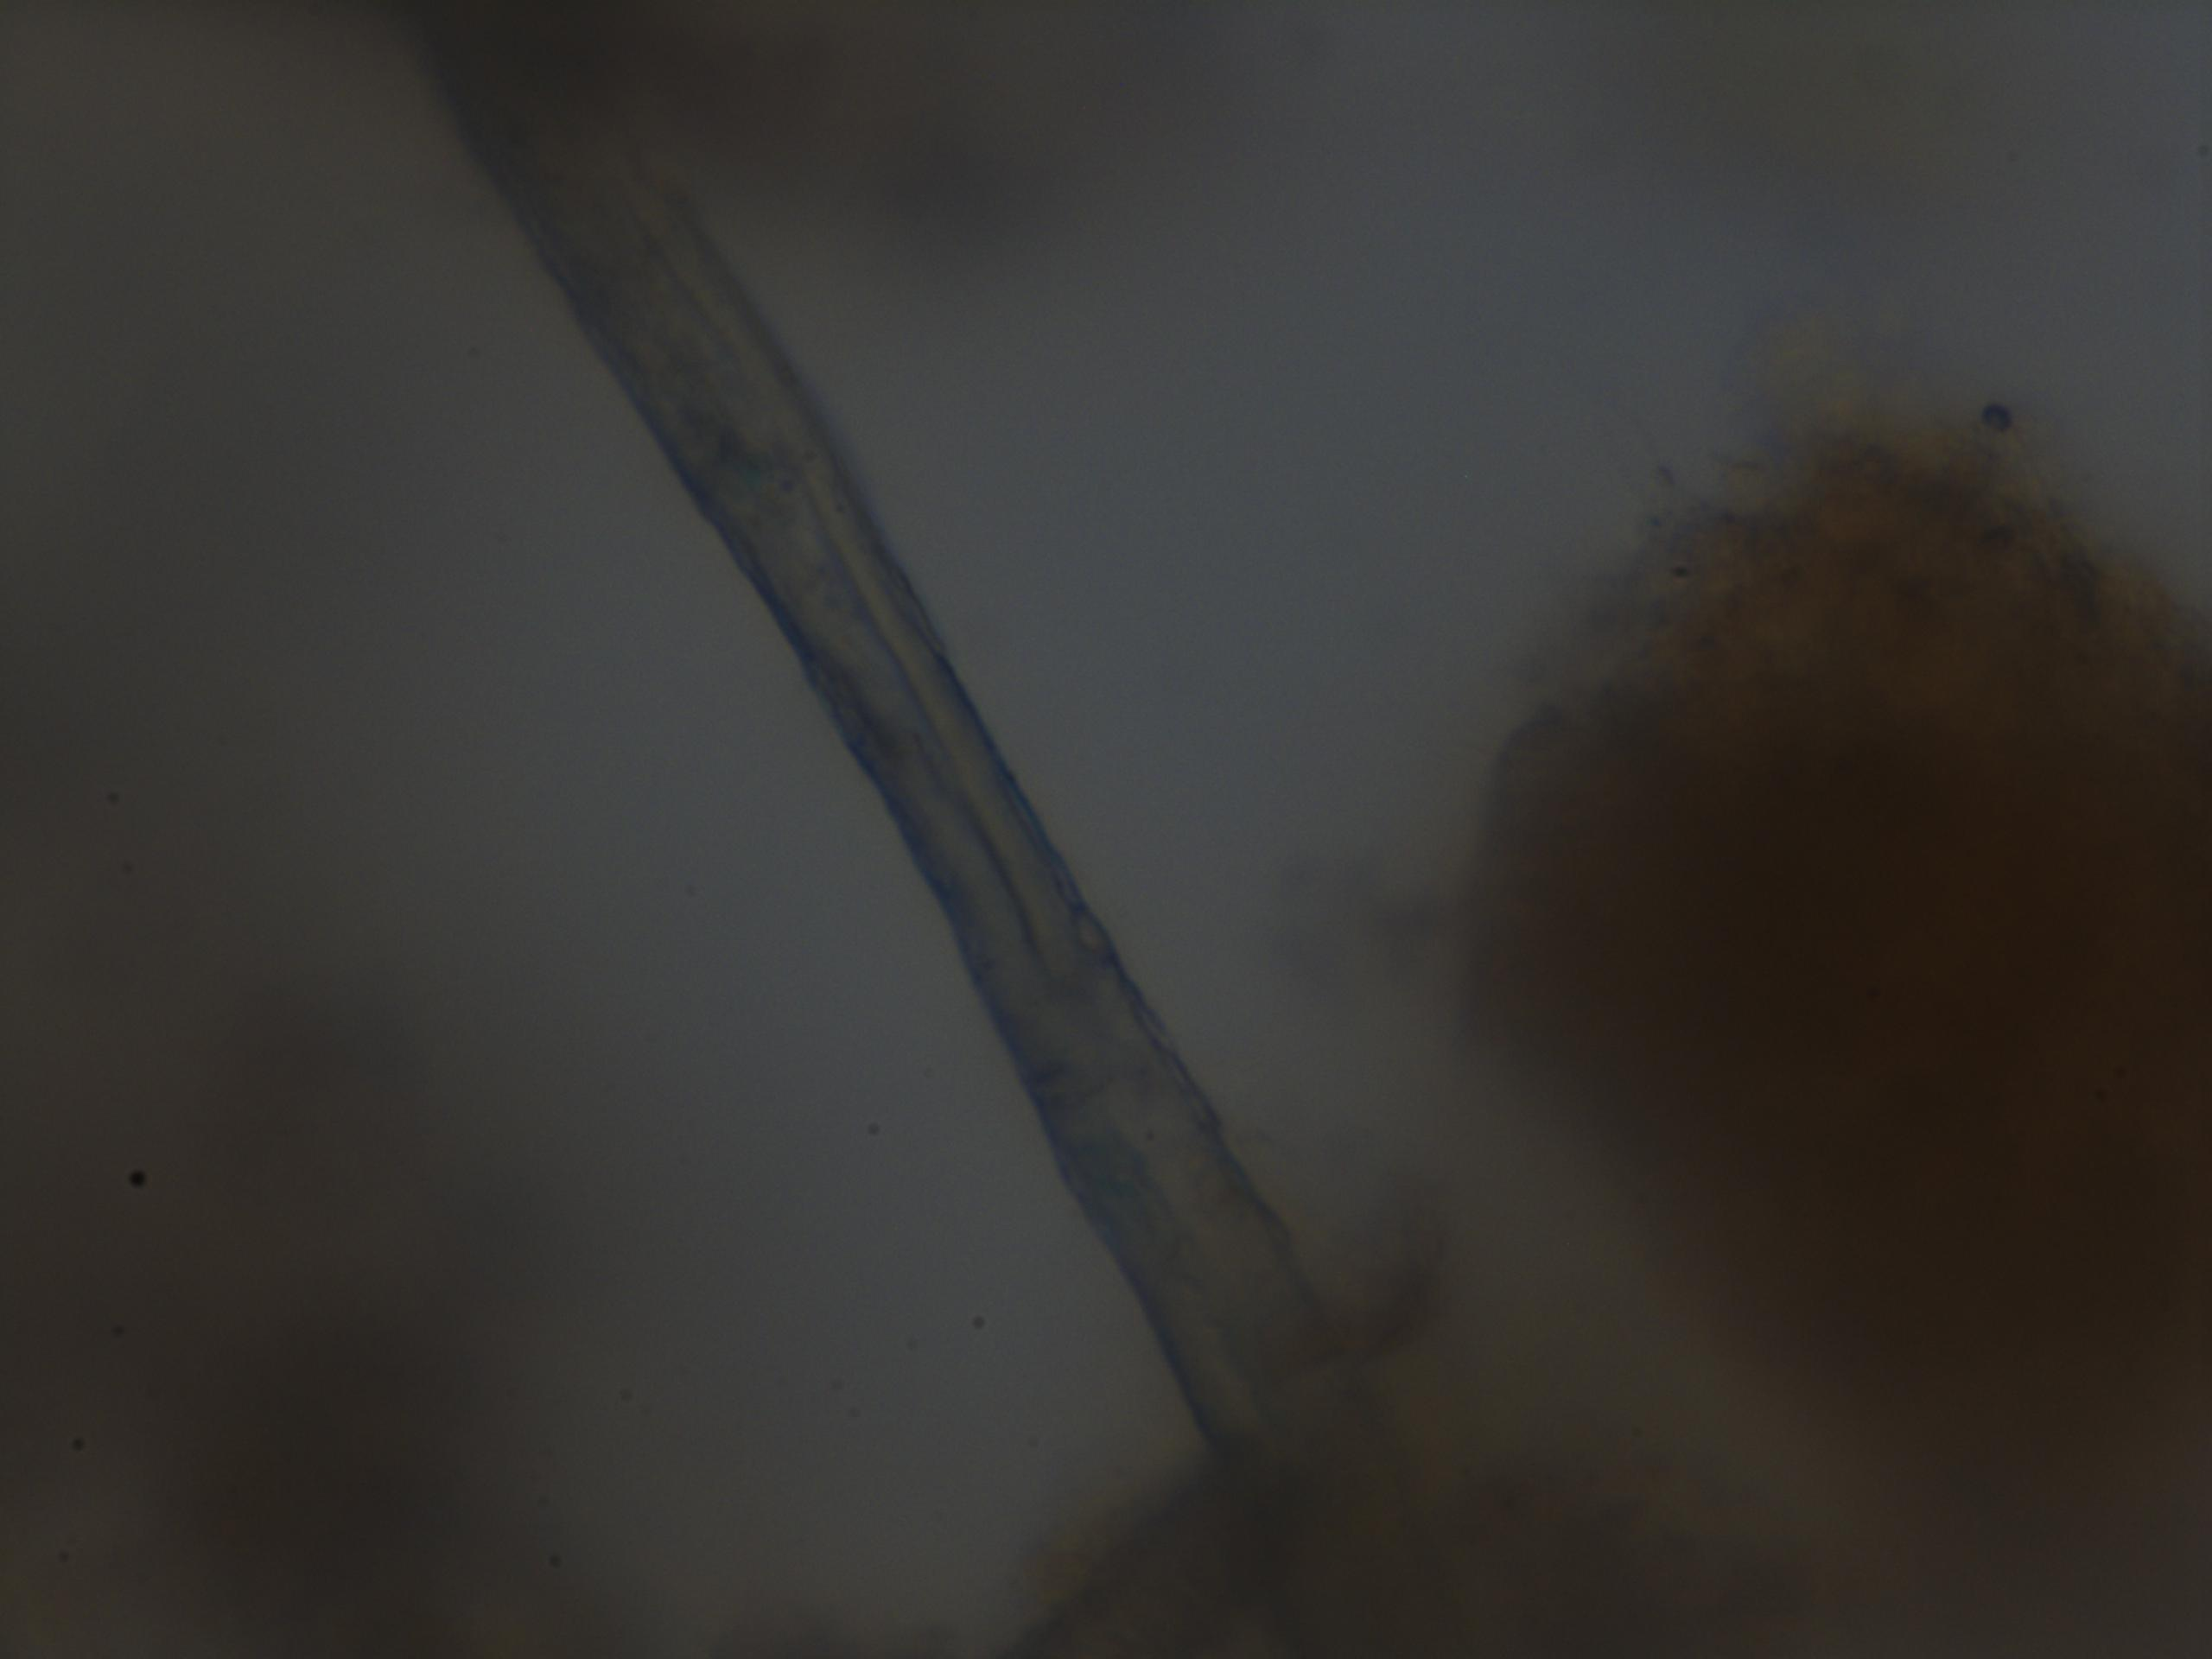spherical_floc: (1451, 410, 2212, 1481)
